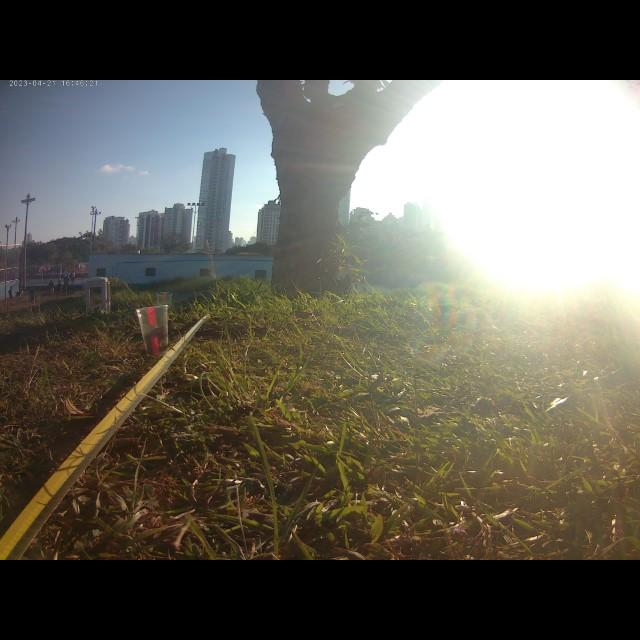arvore: (254, 81, 436, 299)
